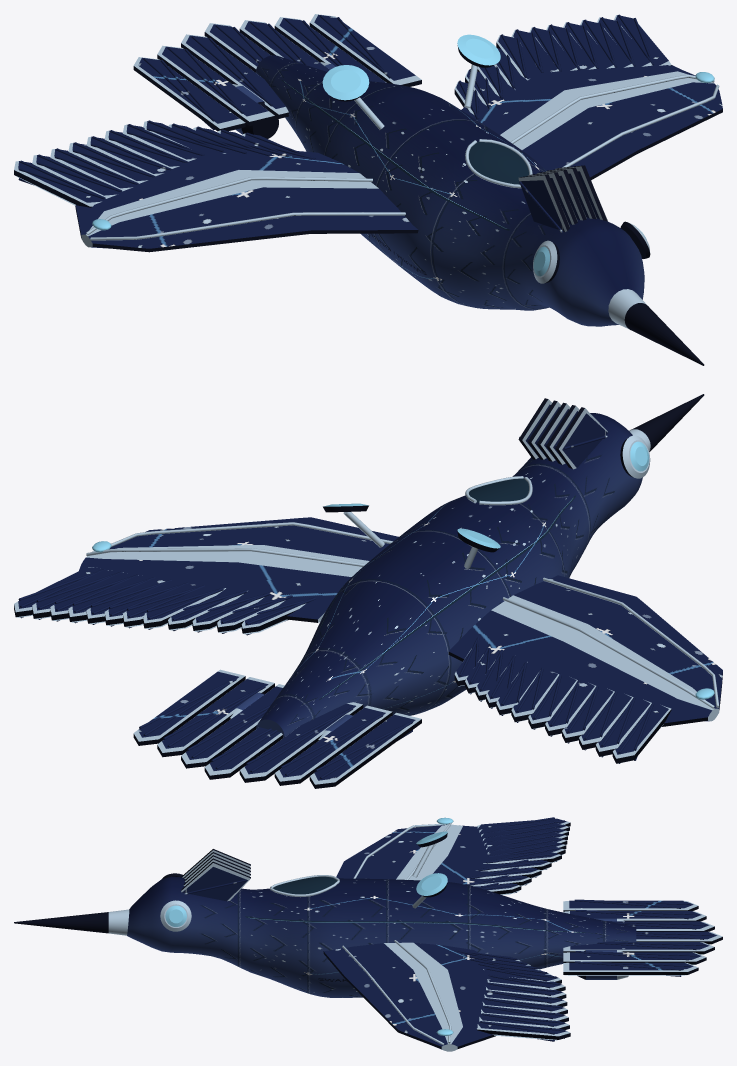
3 renders of one model, top to bottom at view 1: azimuth 30°, elevation 25°; view 2: azimuth 150°, elevation 25°; view 3: azimuth 270°, elevation 25°, orthographic. The views are drawn at different scales.
Visible parts, largest first — view 1: kingfisher_hull; view 2: kingfisher_hull; view 3: kingfisher_hull.
Part boxes in pixels (x1=…): kingfisher_hull: x1=14, y1=14, x2=722, y2=365; kingfisher_hull: x1=14, y1=394, x2=722, y2=788; kingfisher_hull: x1=14, y1=817, x2=722, y2=1051.
Bounding box in the file's own units: 12.5 × 3.63 × 17.
Materials: 1 (1 with a texture image).
